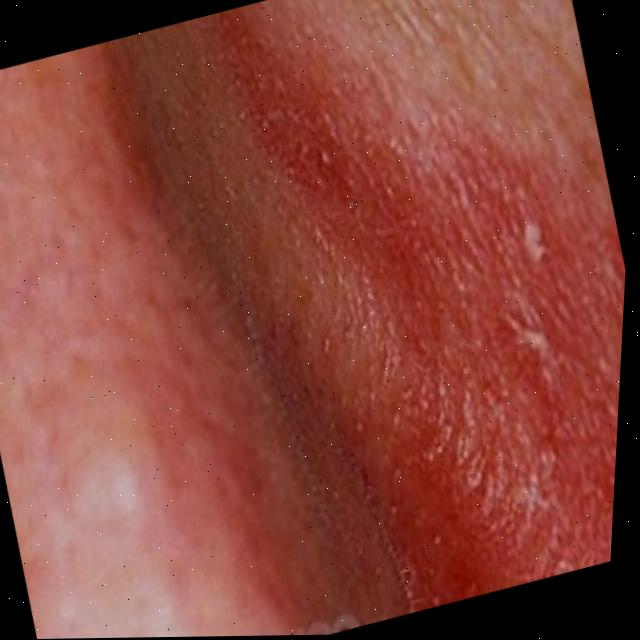Rosacea: (115, 0, 640, 638)
